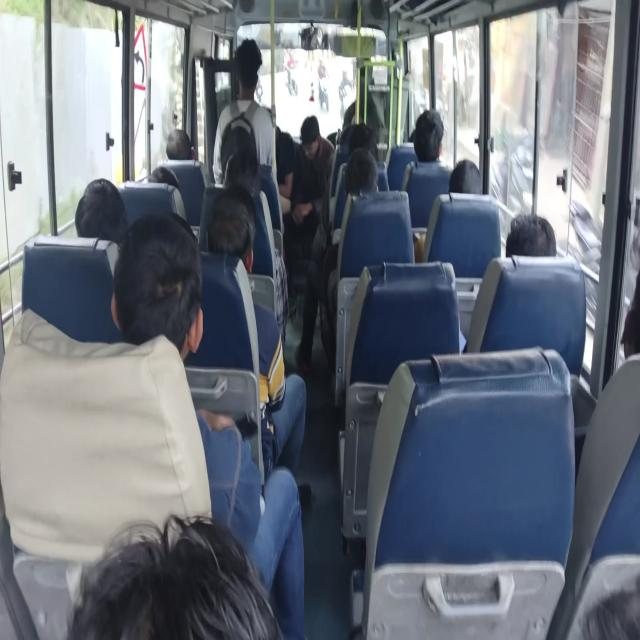person: (110, 210, 306, 637), (206, 188, 307, 480), (66, 513, 284, 639), (295, 147, 379, 372), (460, 212, 557, 352), (212, 38, 278, 190), (286, 115, 336, 271), (412, 158, 483, 262), (74, 177, 128, 244), (505, 212, 556, 257), (413, 108, 444, 162), (344, 148, 379, 195), (448, 158, 482, 194), (166, 128, 196, 160), (148, 165, 180, 188)
